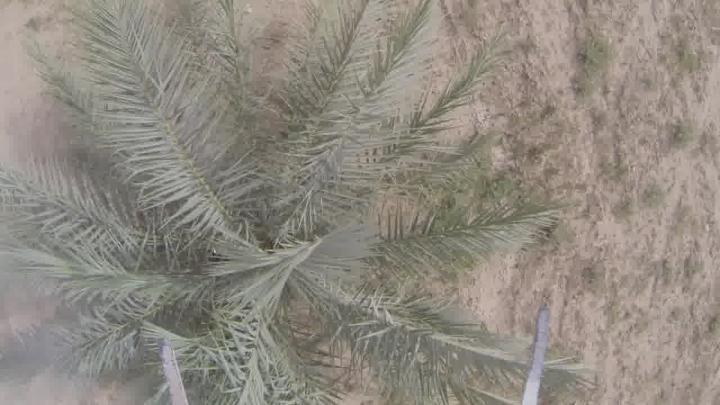Date-Palm-Crown: (103, 106, 419, 404)
